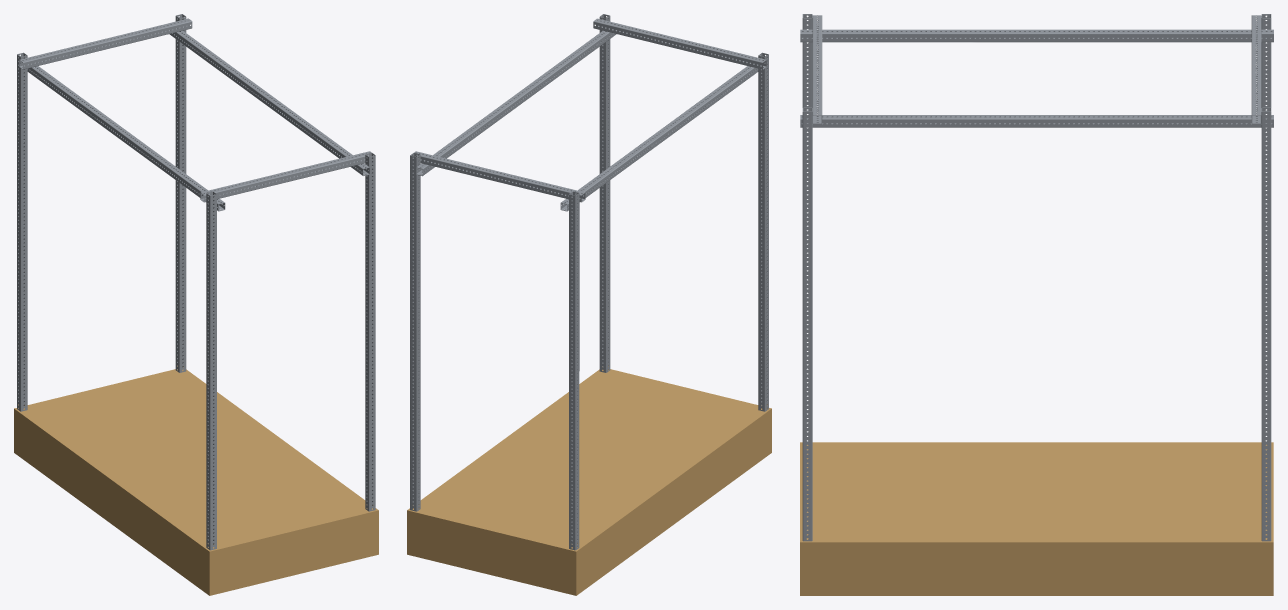
The model's file is 4x8-opt.glb.
The picture shows the model from 3 angles, left to right: view 1: azimuth 30°, elevation 25°; view 2: azimuth 150°, elevation 25°; view 3: azimuth 270°, elevation 25°; orthographic projection. The views are drawn at different scales.
Visible parts, largest first — view 1: module-base, module-steel; view 2: module-base, module-steel; view 3: module-base, module-steel.
Boxes of the visible parts, x1,y1,x2,y2 form: module-base: (14,365,378,595); module-steel: (17,14,375,550); module-base: (407,365,771,595); module-steel: (410,14,768,550); module-base: (800,442,1273,595); module-steel: (800,14,1273,541).
Bounding box in the file's own units: 1.22 × 2.74 × 2.44.
